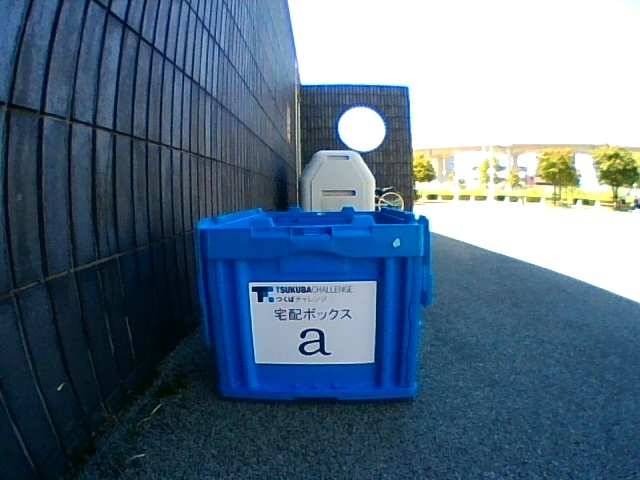blue_box: (194, 206, 431, 399)
tag_a: (255, 284, 375, 362)
